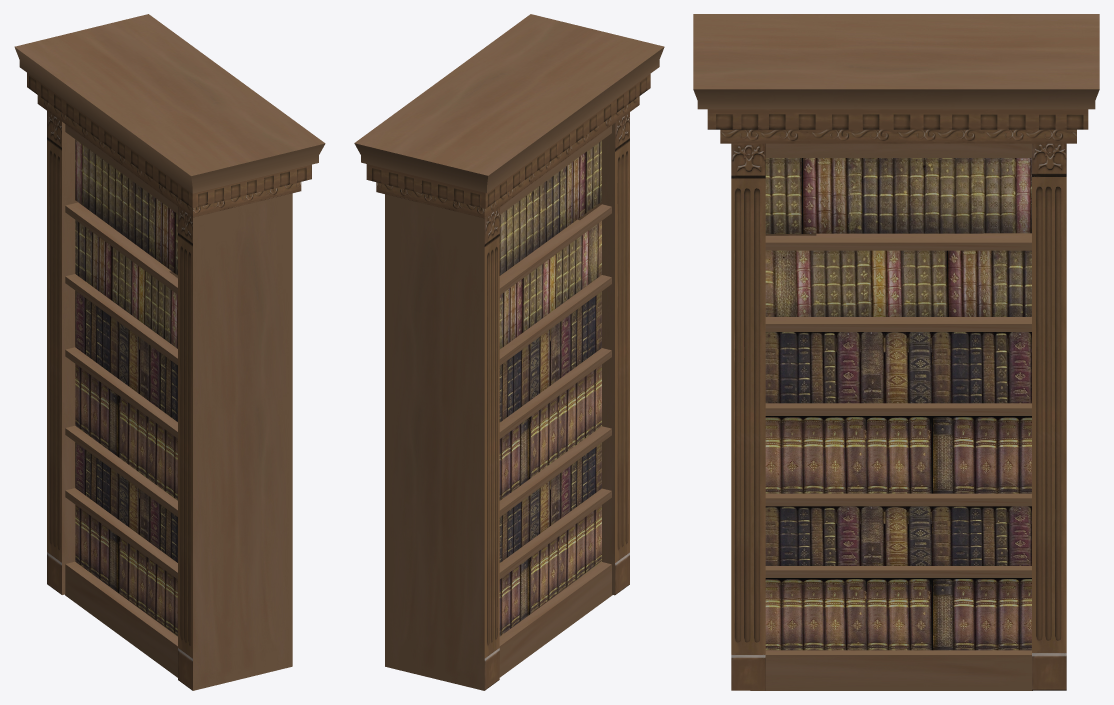
The model's file is short chest book.fbx.
The picture shows the model from 3 angles, left to right: view 1: azimuth 30°, elevation 25°; view 2: azimuth 150°, elevation 25°; view 3: azimuth 270°, elevation 25°; orthographic projection. The views are drawn at different scales.
Parts seen in each view (by area): view 1: polySurface519; view 2: polySurface519; view 3: polySurface519.
Boxes of the visible parts, x1,y1,x2,y2 form: polySurface519: [14, 14, 325, 690]; polySurface519: [354, 14, 664, 690]; polySurface519: [693, 14, 1099, 690].
Bounding box in the file's own units: 91.53 × 347 × 209.
1 material, 1 textured.
